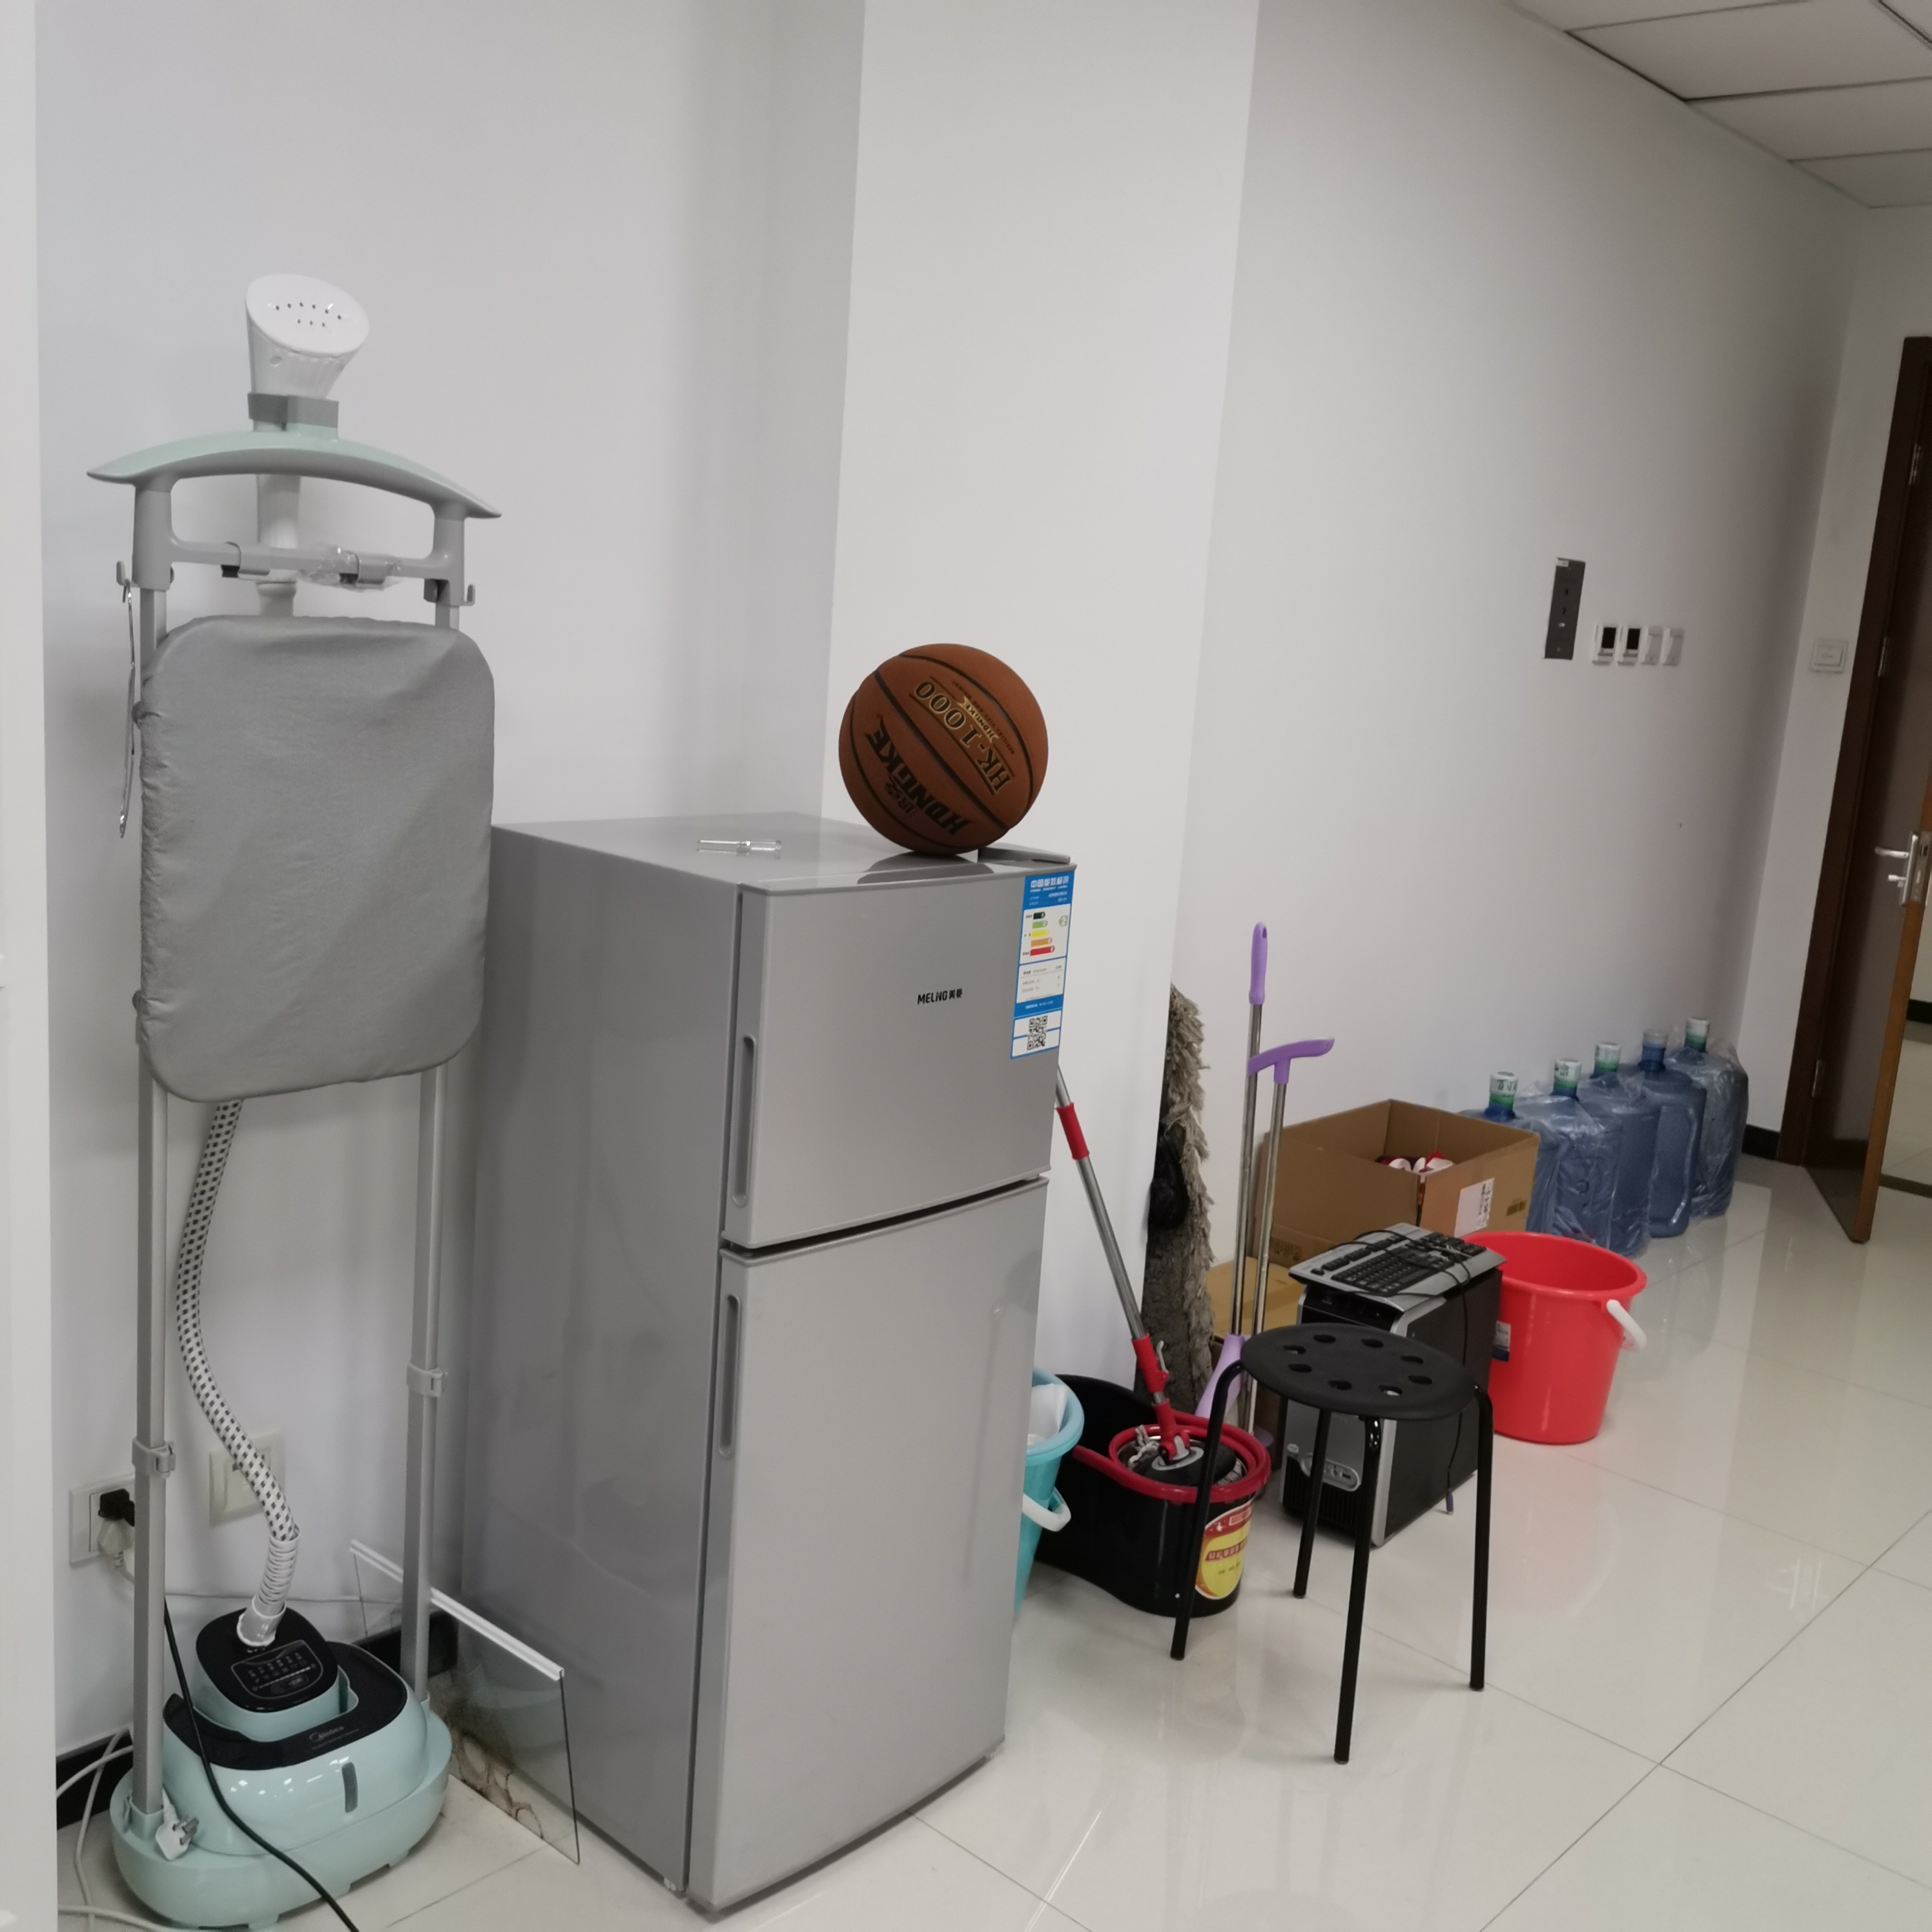basketball: (839, 646, 1049, 856)
